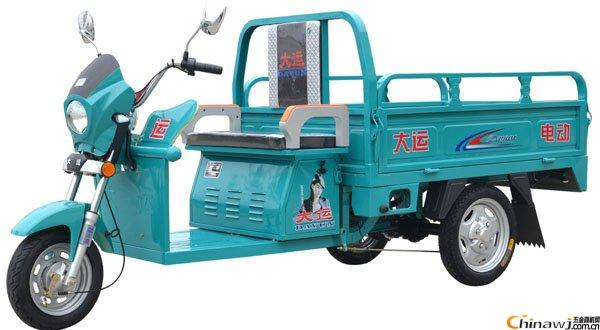tricycle: (16, 17, 587, 320)
